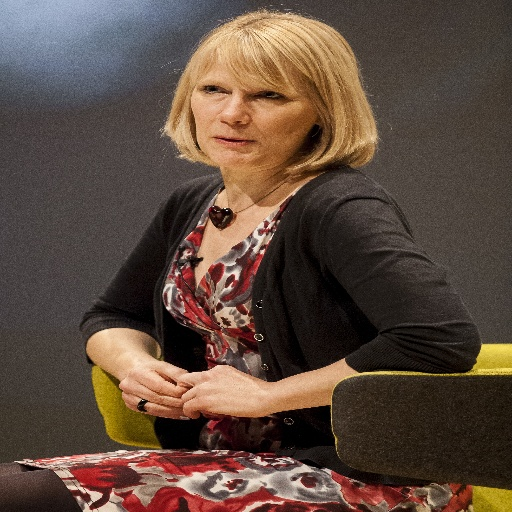hand: (175, 363, 267, 419), (117, 357, 191, 419)
